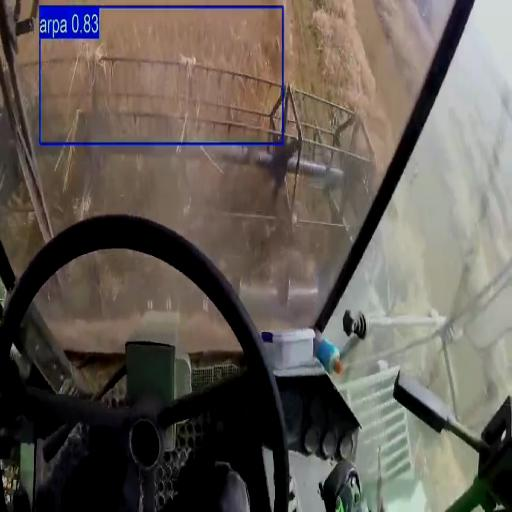arpa: (42, 5, 282, 140), (42, 9, 281, 127)
